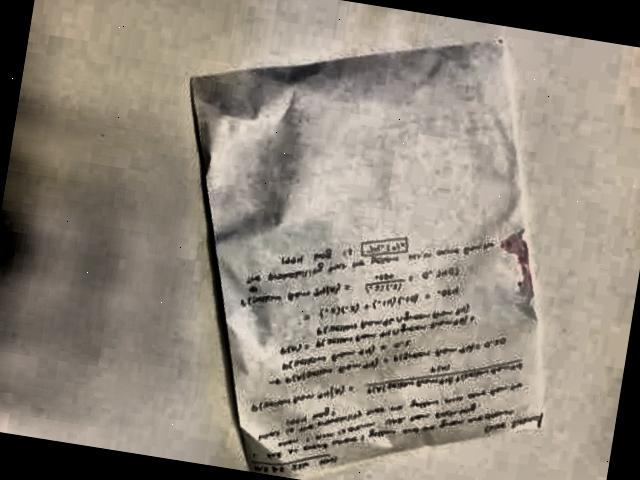Paper: (129, 0, 606, 480)
